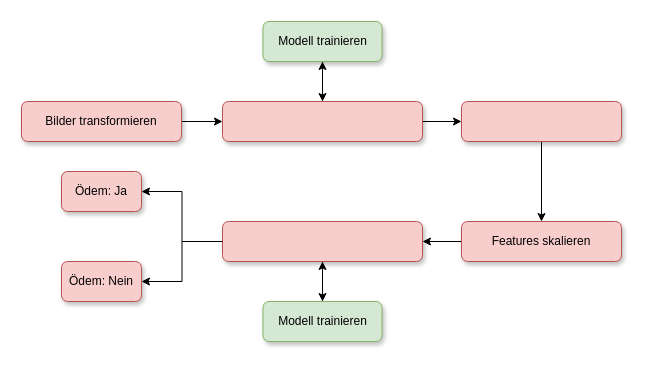
Image size: 645x366. Some labels were removed from this diagram. The shapes that lost their labels are listed below. From the top down, each one's centre as x and y in pixels, then its label:
the point at 323,122: Bilder in Klassifikationsmodell eingeben
the point at 542,122: Features extrahieren
the point at 323,242: Logistische Regression auf Features anwenden
